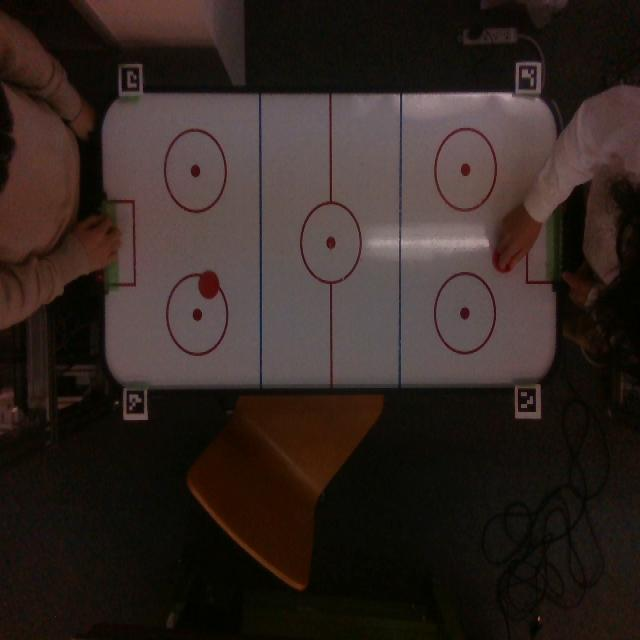puck: (199, 270, 219, 298)
